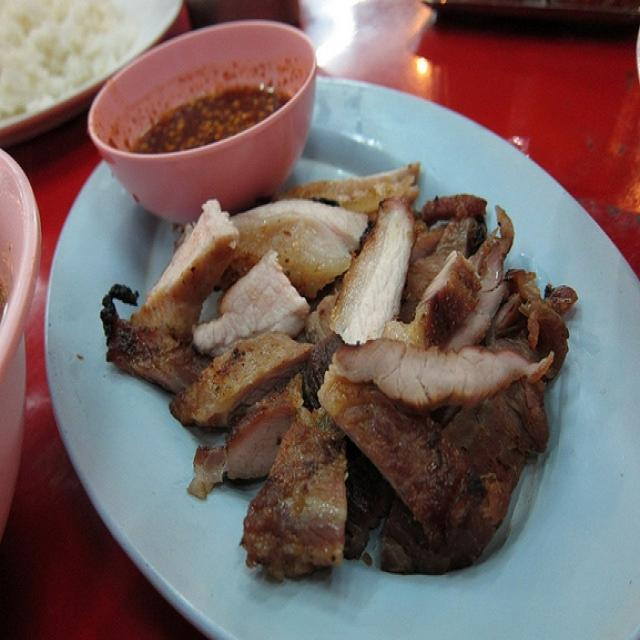猪肉菜式: (90, 163, 586, 597)
